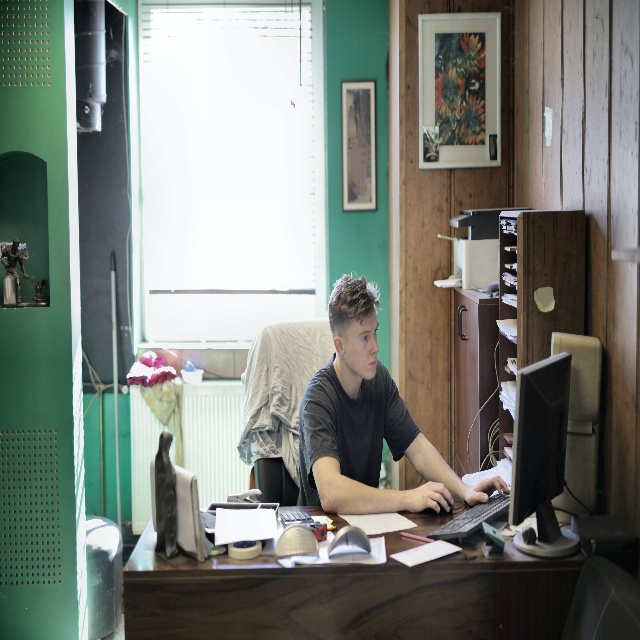Sin_guantes: (407, 481, 454, 514), (465, 475, 510, 507)
